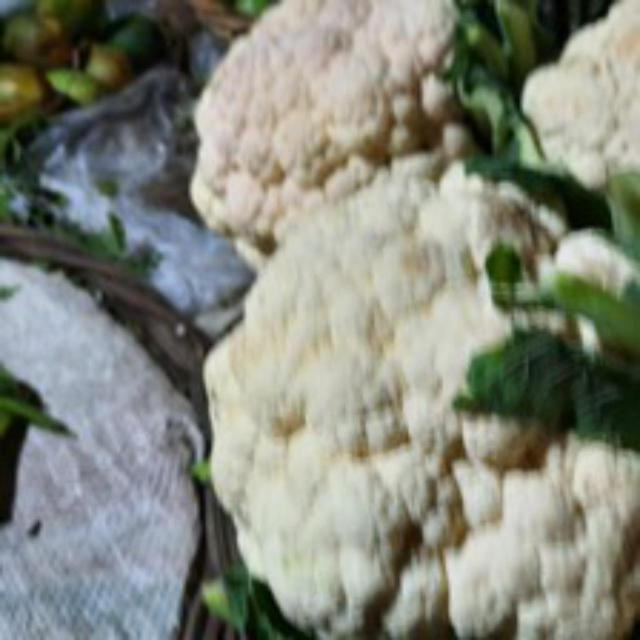cauliflower: (191, 146, 637, 636)
